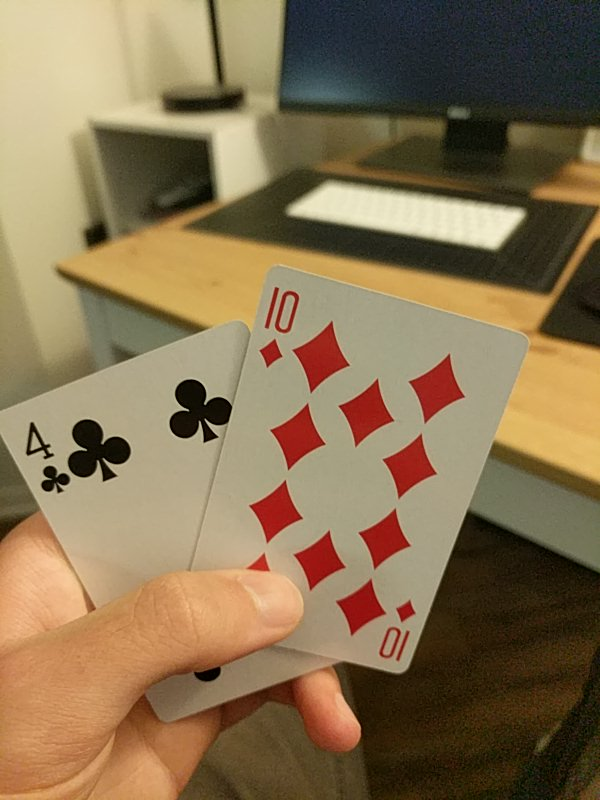Clubs: (2, 323, 254, 719)
Diamonds: (185, 262, 531, 665)
